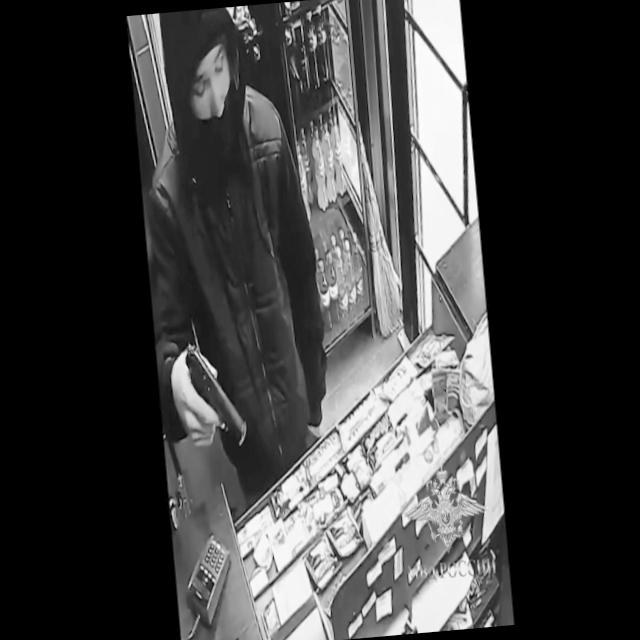gun: (175, 340, 251, 454)
person with a gun: (124, 1, 336, 478)
